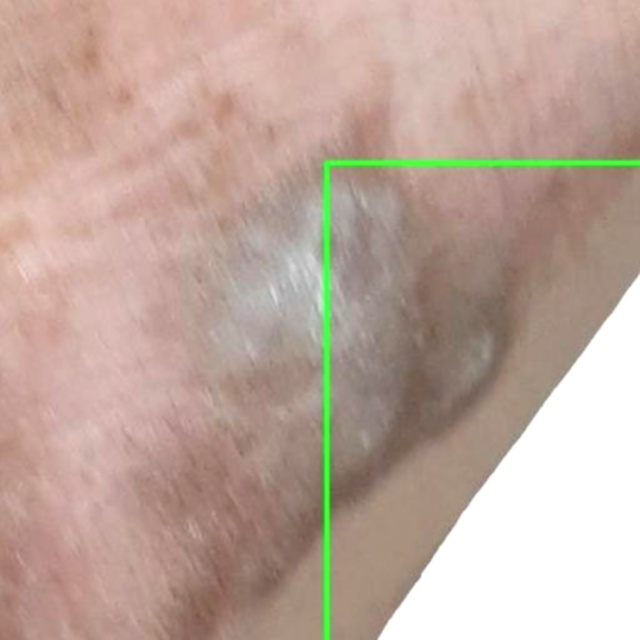Contact Dermatitis: (326, 164, 639, 639)
